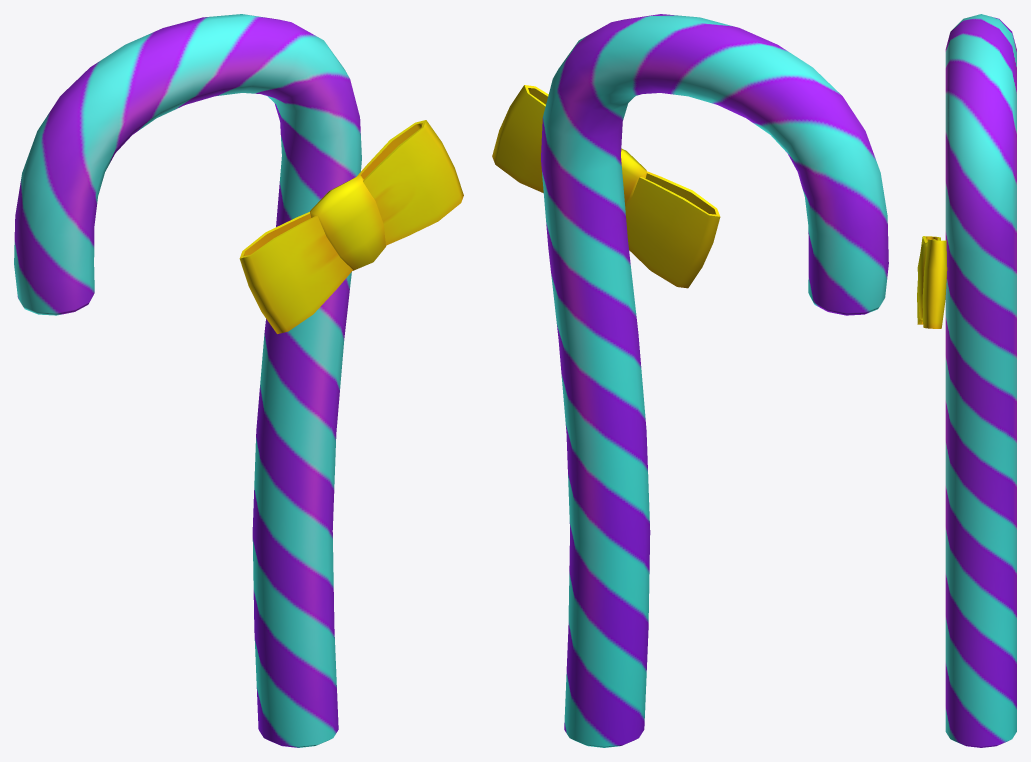
File: HalloweenItem_Candy02.fbx
3 views of the same model, side by side, from view 1: azimuth 30°, elevation 25°; view 2: azimuth 150°, elevation 25°; view 3: azimuth 270°, elevation 25° (orthographic). The views are drawn at different scales.
Visible parts, largest first — view 1: M_candy02, M_ribbon02; view 2: M_candy02, M_ribbon02; view 3: M_candy02, M_ribbon02.
Part boxes in pixels (x1,y1,x2,y2): M_candy02: [14, 14, 361, 747]; M_ribbon02: [239, 120, 463, 333]; M_candy02: [541, 14, 888, 747]; M_ribbon02: [492, 85, 720, 288]; M_candy02: [945, 14, 1016, 747]; M_ribbon02: [917, 236, 947, 328].
Bounding box in the file's own units: 8.14 × 13.71 × 1.89.
